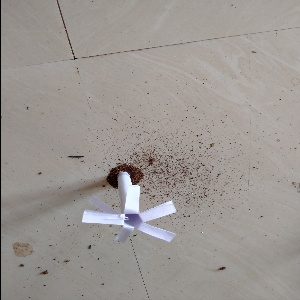weed: (78, 169, 189, 246)
